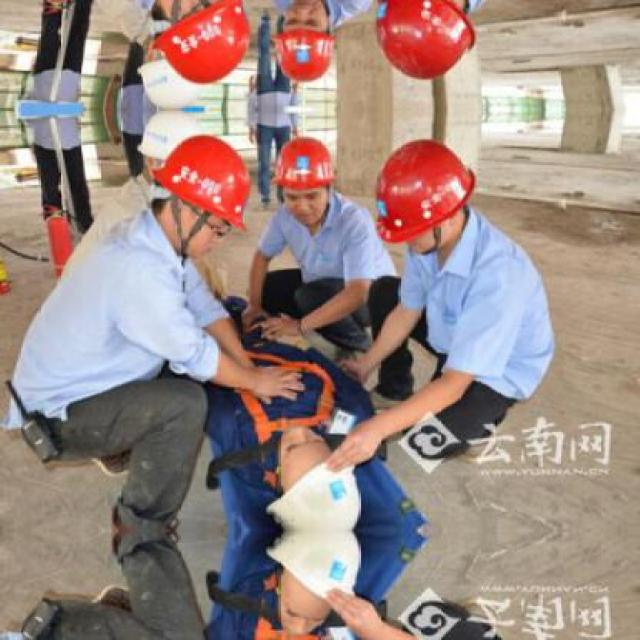helmet: (372, 134, 478, 253), (153, 135, 250, 258), (371, 0, 478, 85), (152, 0, 251, 85), (269, 132, 337, 226), (269, 0, 338, 86), (137, 110, 211, 186), (137, 33, 211, 109)
